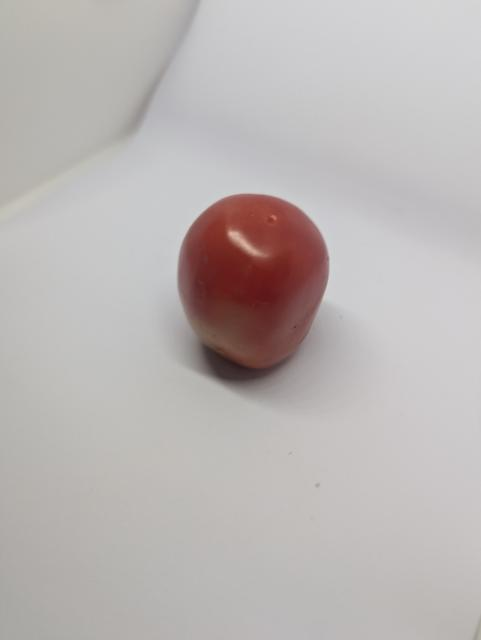red: (159, 179, 338, 389)
